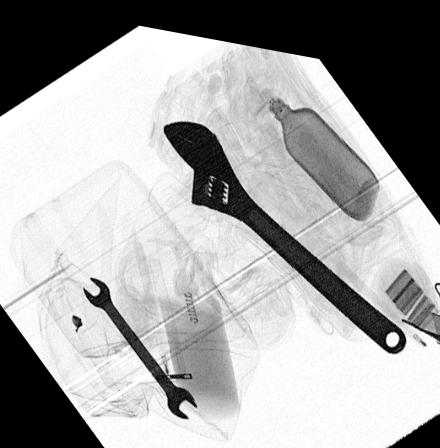Wrench: (161, 109, 408, 341), (81, 273, 199, 413)
